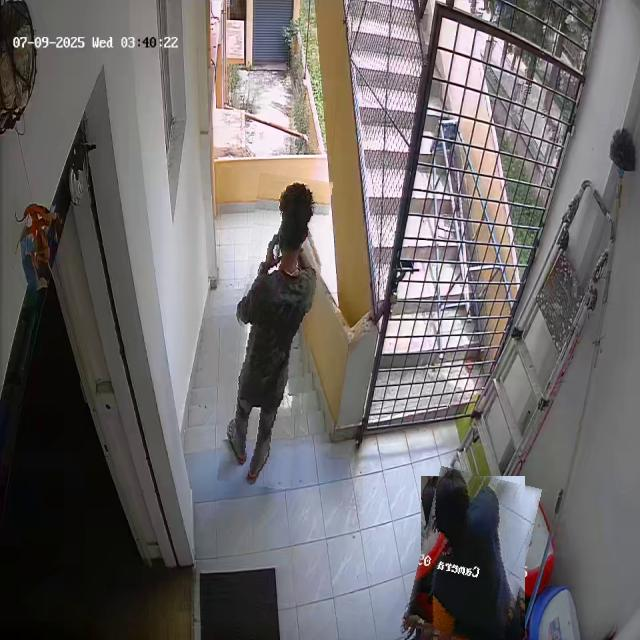person: (227, 174, 323, 489), (412, 471, 533, 640)
